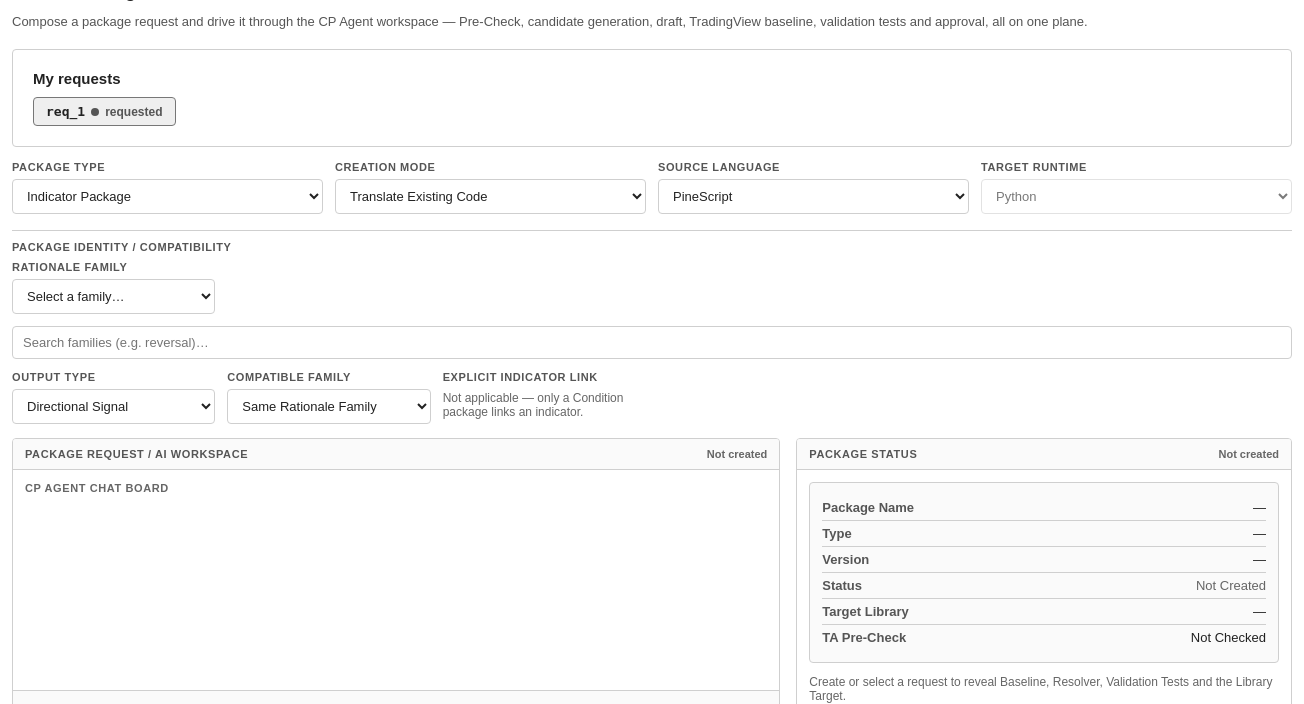
Test: Create Package page › shows the verdict only once the durable validation worker lands it
The width and height of the screenshot is (1304, 704).
Expected: the text "req_1" is shown, [46,104,85,119]
Step 1. Click the button "req_1 requested" → (104, 112), box [33,97,176,126]
(page scrolled)
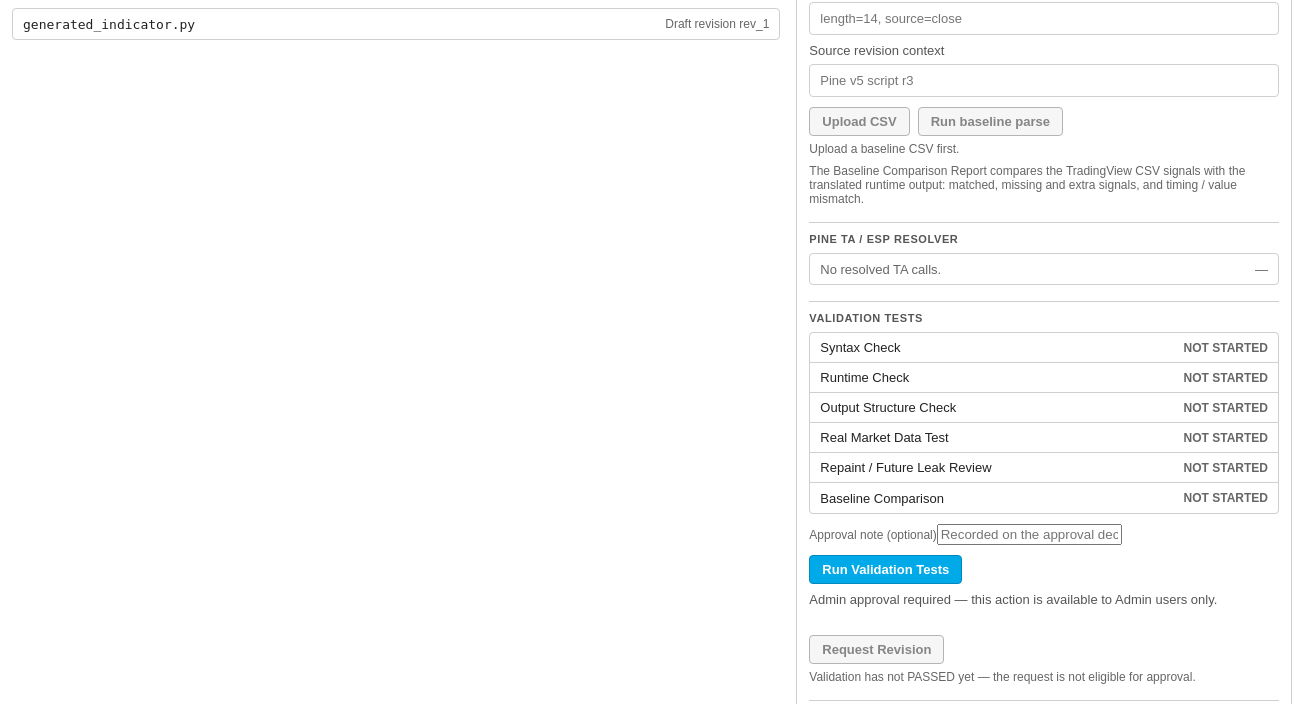
Step 2. Click the button "Run Validation Tests" → (886, 570), box [809,555,962,584]
(page scrolled)
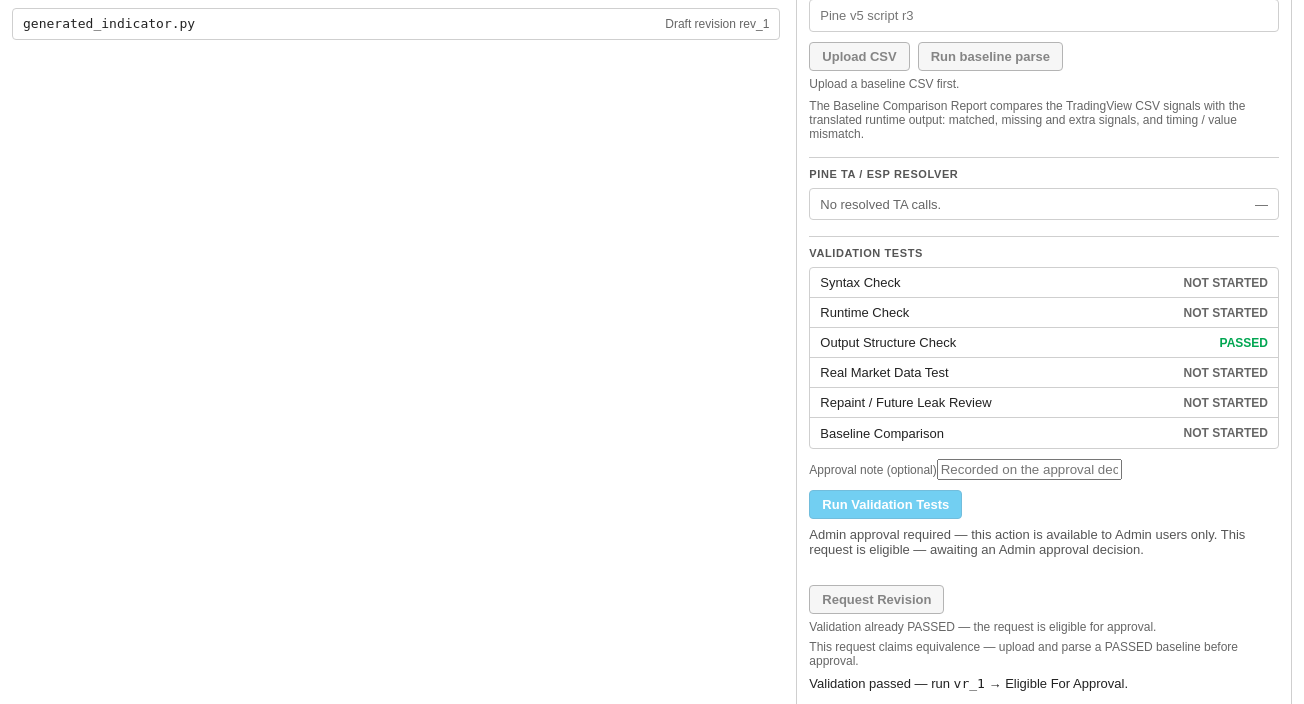
Expected: the text "Validation passed — run vr_1 → Eligible For Approval." is shown, [809,676,1128,691]
